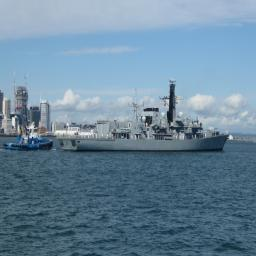Fragata: (56, 79, 230, 153)
